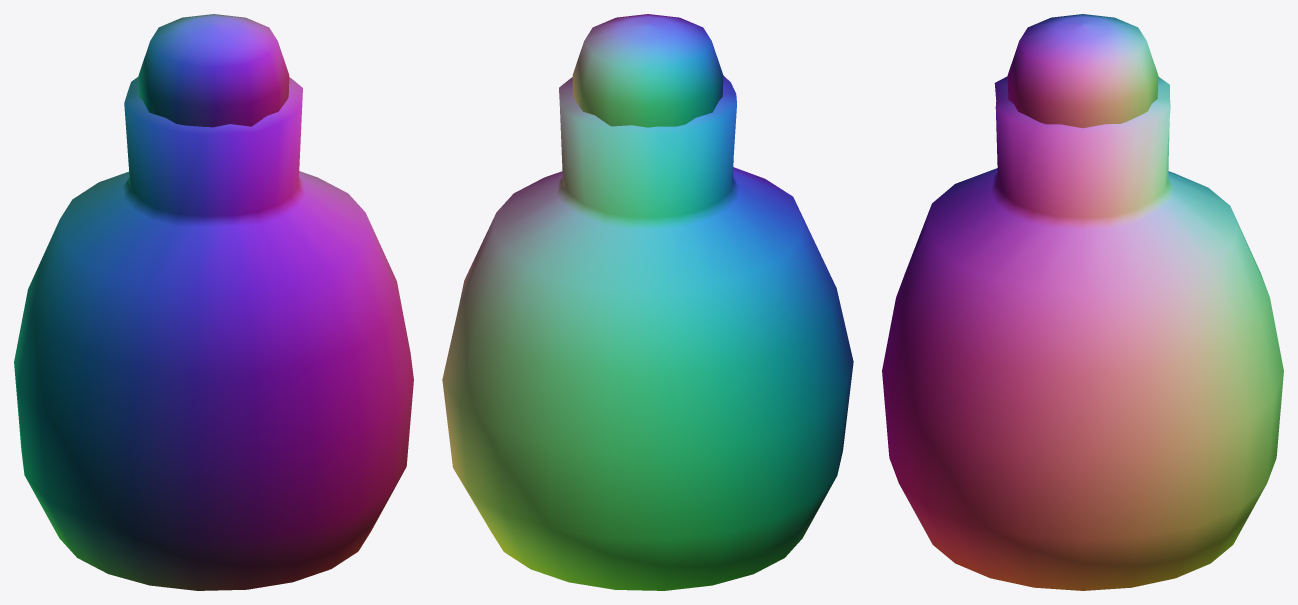
File: SM_Pickup_PotionMP.fbx
3 renders of one model, left to right at view 1: azimuth 30°, elevation 25°; view 2: azimuth 150°, elevation 25°; view 3: azimuth 270°, elevation 25°, orthographic.
Visible parts, largest first — view 1: SM_Pickup_PotionMP; view 2: SM_Pickup_PotionMP; view 3: SM_Pickup_PotionMP.
Part boxes in pixels (x1,y1,x2,y2): SM_Pickup_PotionMP: [14, 14, 413, 590]; SM_Pickup_PotionMP: [442, 14, 853, 590]; SM_Pickup_PotionMP: [882, 14, 1283, 590].
Size of the model in its own units: 0.243 by 0.349 by 0.243.
